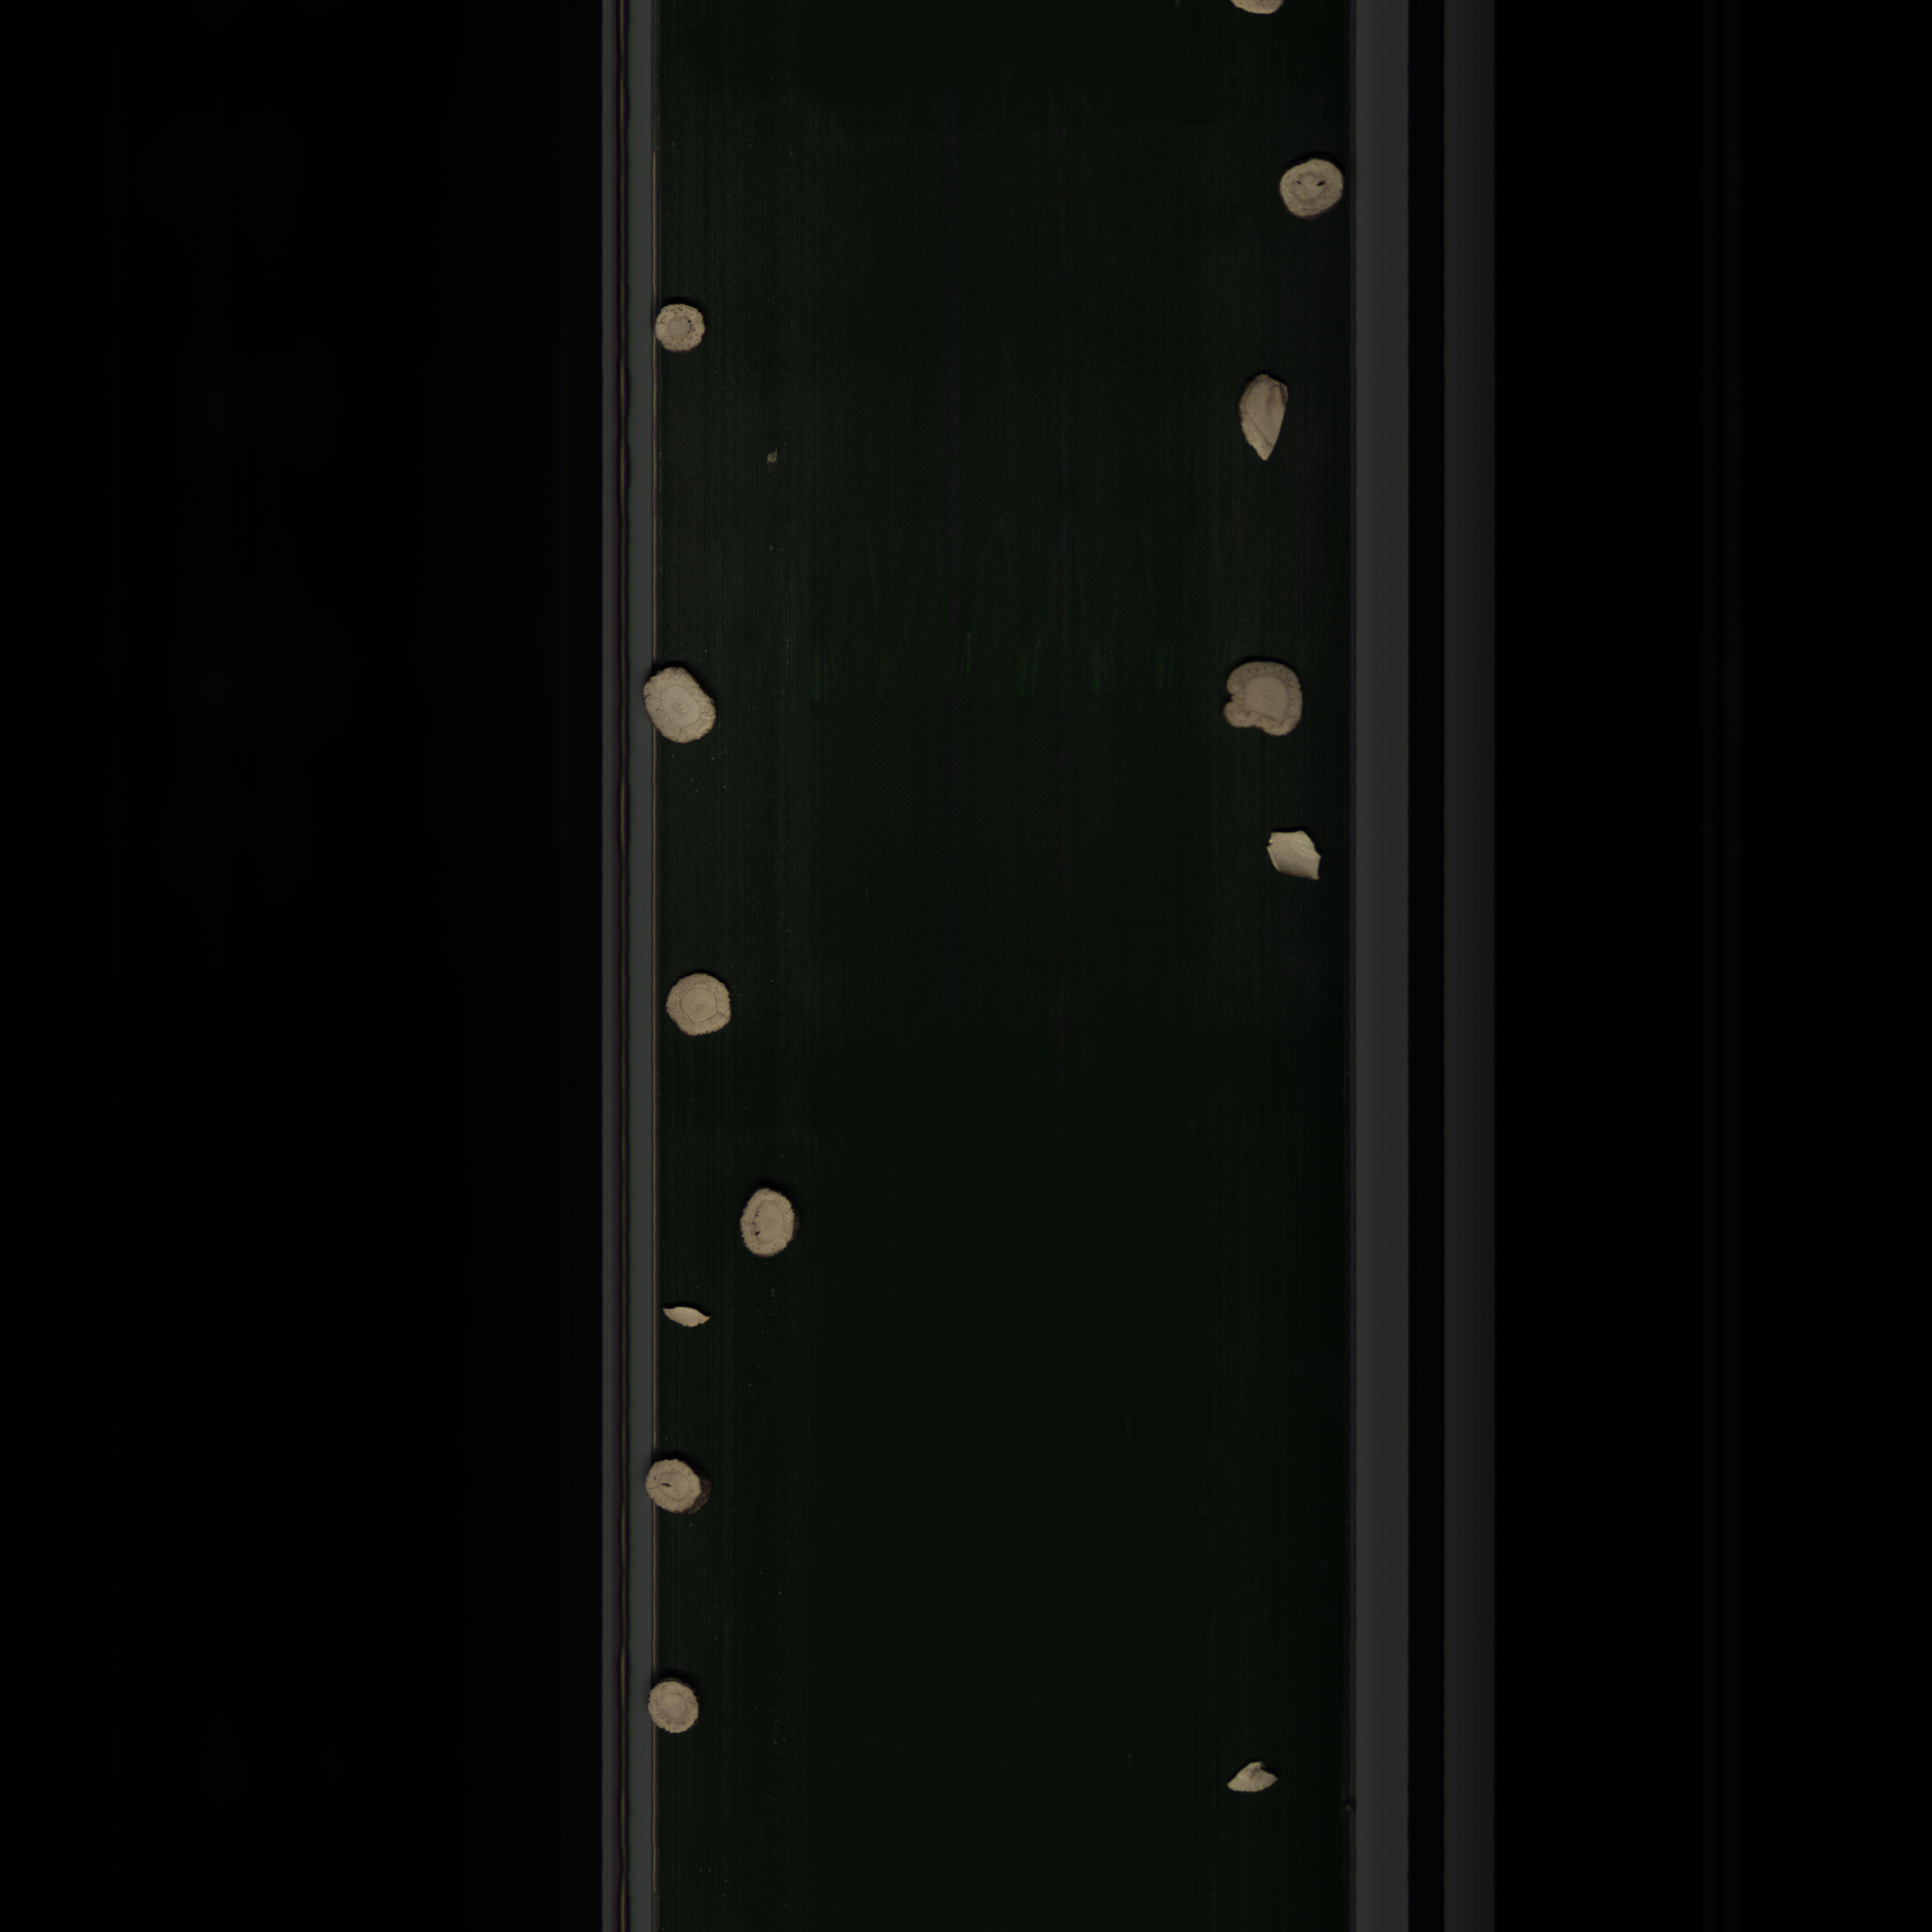debris: (1230, 364, 1292, 476), (1258, 821, 1334, 895), (1214, 1755, 1292, 1801), (651, 1299, 717, 1336)
hole: (727, 1187, 809, 1269), (1272, 154, 1359, 223), (642, 1456, 717, 1522)
moldy: (1215, 656, 1307, 750)
